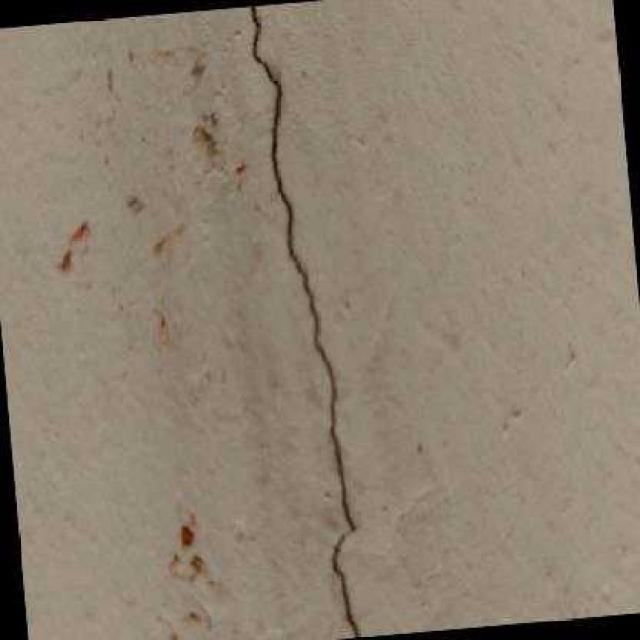D00: (251, 5, 359, 638)
